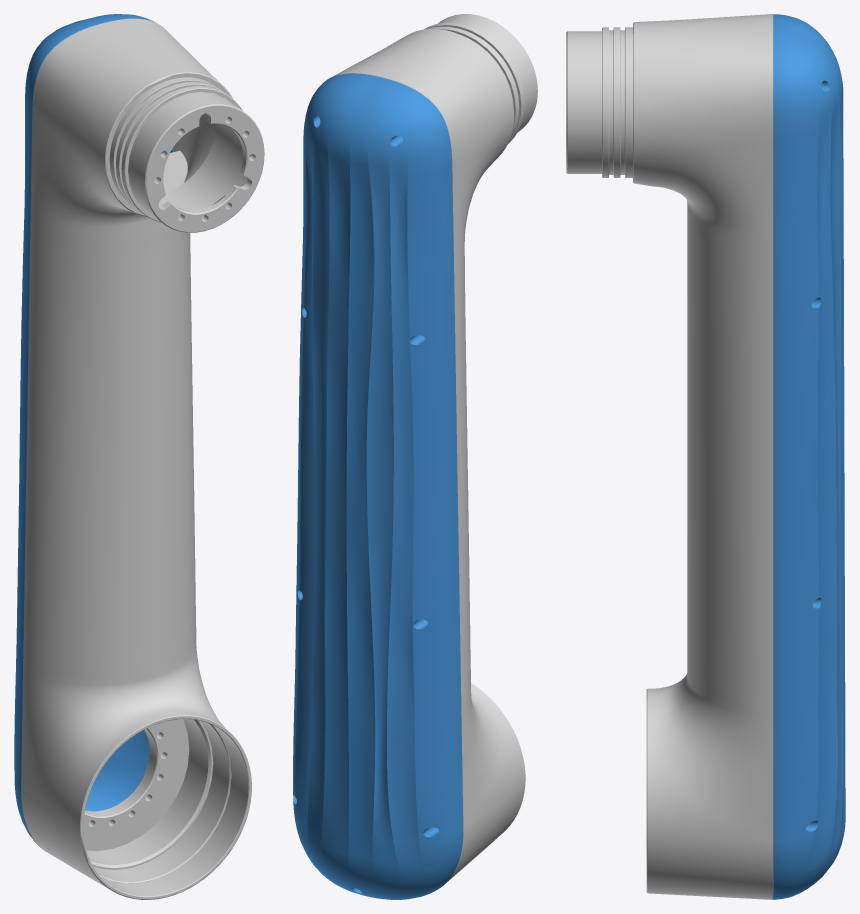
The picture shows the model from 3 angles, left to right: view 1: azimuth 30°, elevation 25°; view 2: azimuth 150°, elevation 25°; view 3: azimuth 270°, elevation 25°; orthographic projection. The views are drawn at different scales.
Parts seen in each view (by area): view 1: 4; view 2: 4; view 3: 4.
Part boxes in pixels (<box>): 4: <box>14,14,264,899</box>; 4: <box>293,14,537,899</box>; 4: <box>566,14,845,899</box>.
Bounding box in the file's own units: 89.01 × 412 × 121.
